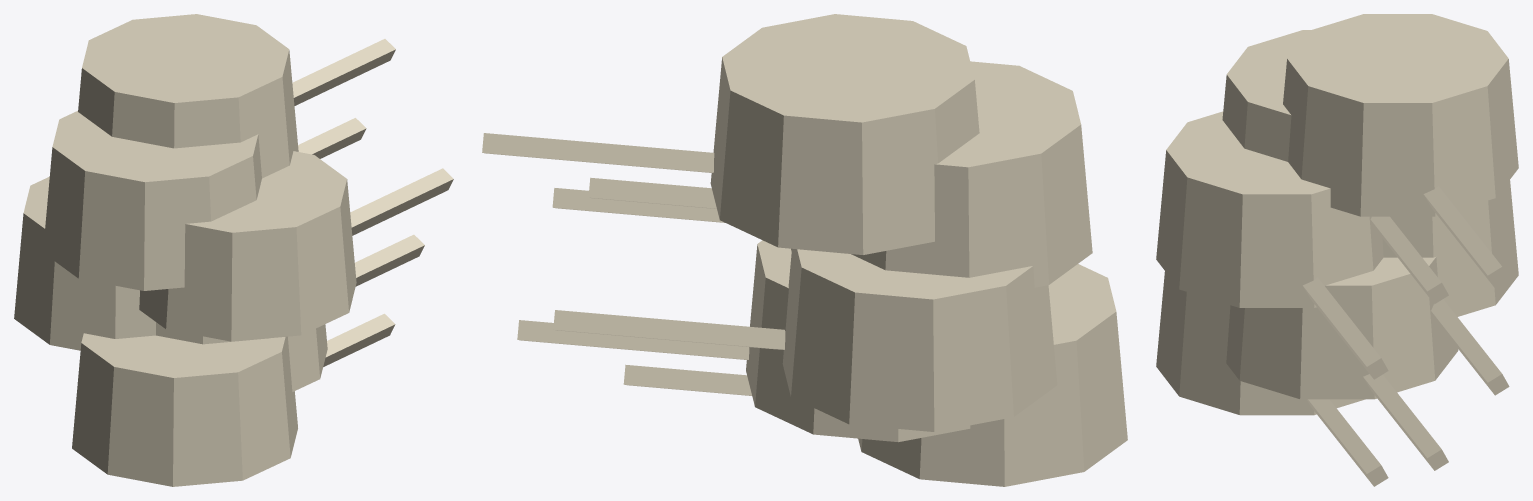
The model's file is item_040_sling_l.glb.
The picture shows the model from 3 angles, left to right: view 1: azimuth 30°, elevation 25°; view 2: azimuth 150°, elevation 25°; view 3: azimuth 270°, elevation 25°; orthographic projection. The views are drawn at different scales.
Visible parts, largest first — view 1: item_040_sling_l; view 2: item_040_sling_l; view 3: item_040_sling_l.
Boxes of the visible parts, left/top/right/bottom form: item_040_sling_l: left=14, top=14, right=453, bottom=486; item_040_sling_l: left=482, top=14, right=1127, bottom=486; item_040_sling_l: left=1156, top=14, right=1518, bottom=486.
Bounding box in the file's own units: 0.4877 × 0.37 × 0.36.
